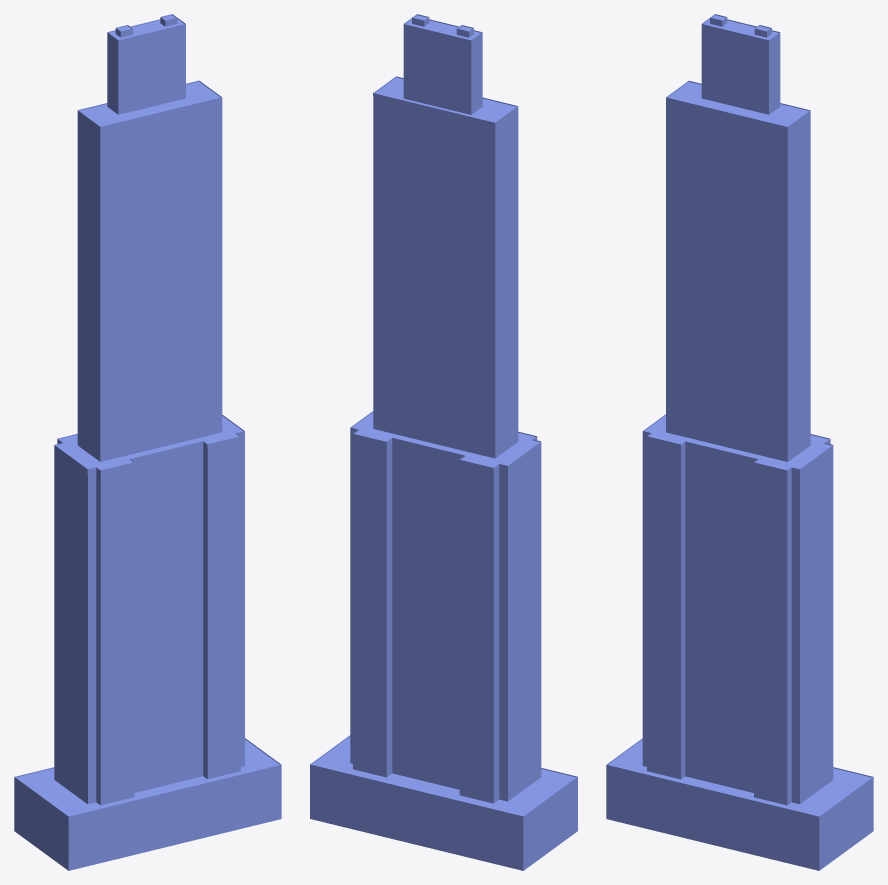
File: Building_04_5.FBX
3 renders of one model, left to right at view 1: azimuth 30°, elevation 25°; view 2: azimuth 150°, elevation 25°; view 3: azimuth 330°, elevation 25°, orthographic.
Parts seen in each view (by area): view 1: Building_04_5; view 2: Building_04_5; view 3: Building_04_5.
Boxes of the visible parts, left/top/right/bottom form: Building_04_5: left=14, top=14, right=281, bottom=870; Building_04_5: left=310, top=14, right=577, bottom=870; Building_04_5: left=606, top=14, right=873, bottom=870.
Bounding box in the file's own units: 126696 × 455686 × 56003.
